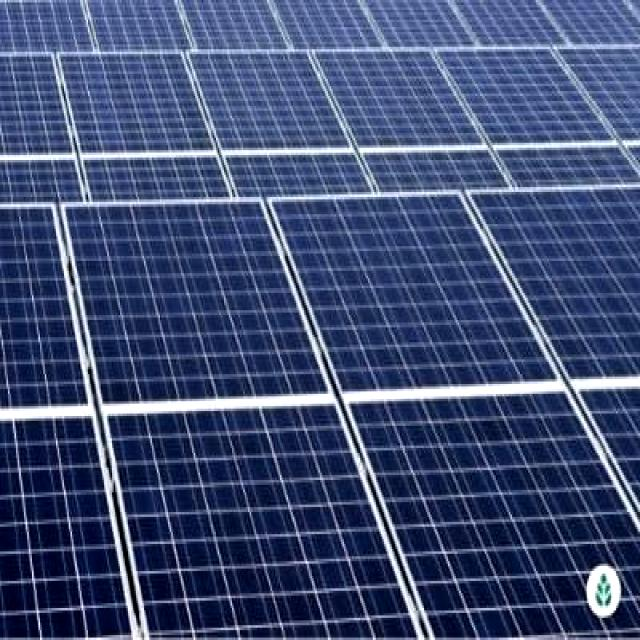crack: (322, 377, 640, 638), (257, 166, 574, 427), (94, 390, 408, 640), (54, 198, 347, 416), (305, 36, 523, 230), (180, 37, 380, 229), (54, 42, 236, 230)
